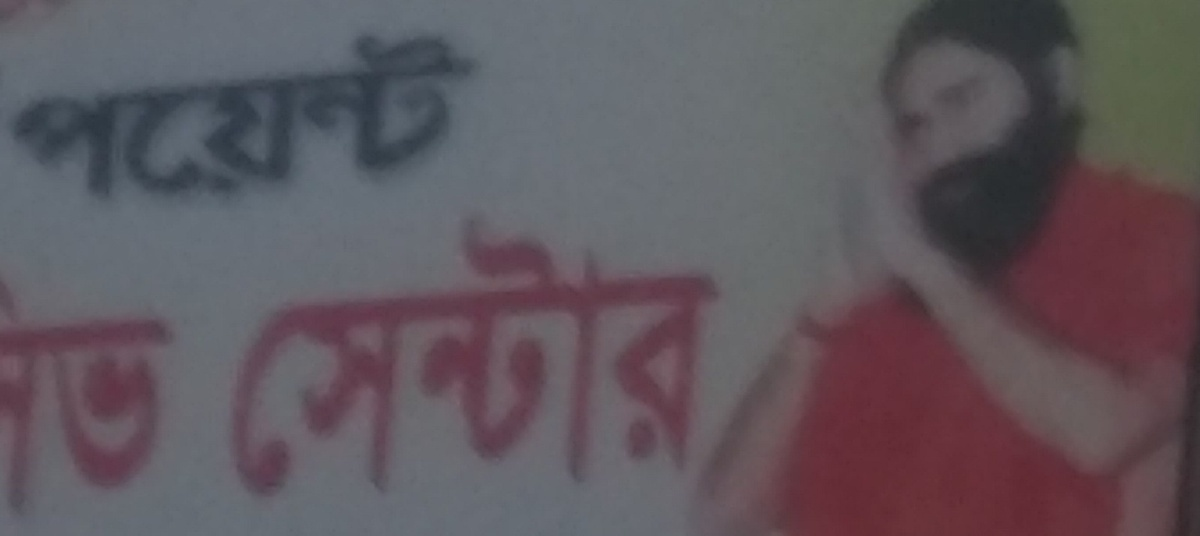text: (241, 174, 256, 508), (257, 174, 272, 508), (273, 174, 288, 508), (289, 174, 304, 508), (305, 174, 320, 508), (321, 174, 336, 508), (337, 174, 352, 508), (353, 174, 368, 508), (369, 174, 384, 508), (385, 174, 400, 508), (401, 174, 416, 508), (417, 174, 432, 508), (433, 174, 448, 508), (449, 174, 464, 508), (465, 174, 480, 508), (481, 174, 496, 508), (497, 174, 512, 508), (513, 174, 528, 508), (529, 174, 544, 508), (545, 174, 560, 508), (561, 174, 576, 508), (577, 174, 592, 508), (593, 174, 608, 508), (609, 174, 624, 508), (625, 174, 640, 508), (641, 174, 656, 508), (657, 174, 672, 508), (673, 174, 688, 508), (689, 174, 704, 508), (705, 174, 720, 508), (721, 174, 736, 508), (737, 174, 752, 508), (227, 174, 240, 508), (1, 270, 16, 519), (17, 270, 32, 519), (33, 270, 48, 519), (49, 270, 64, 519), (65, 270, 80, 519), (81, 270, 96, 519), (97, 270, 112, 519), (113, 270, 128, 519), (129, 270, 144, 519), (145, 270, 160, 519), (161, 270, 176, 519), (17, 14, 32, 222), (33, 14, 48, 222), (49, 14, 64, 222), (65, 14, 80, 222), (81, 14, 96, 222), (97, 14, 112, 222), (113, 14, 128, 222), (129, 14, 144, 222), (145, 14, 160, 222), (161, 14, 176, 222), (177, 14, 192, 222), (193, 14, 208, 222), (209, 14, 224, 222), (225, 14, 240, 222), (241, 14, 256, 222), (257, 14, 272, 222), (273, 14, 288, 222), (289, 14, 304, 222), (305, 14, 320, 222), (321, 14, 336, 222), (337, 14, 352, 222), (353, 14, 368, 222), (369, 14, 384, 222), (385, 14, 400, 222), (401, 14, 416, 222), (417, 14, 432, 222), (433, 14, 448, 222), (449, 14, 464, 222), (465, 14, 480, 222), (9, 14, 16, 222), (753, 174, 757, 508), (481, 14, 487, 222)
